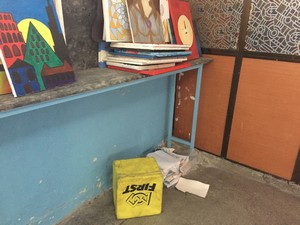cube: (110, 159, 164, 218)
